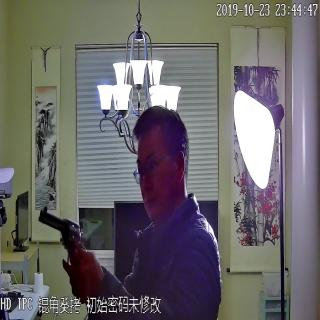gun: (38, 205, 97, 300)
